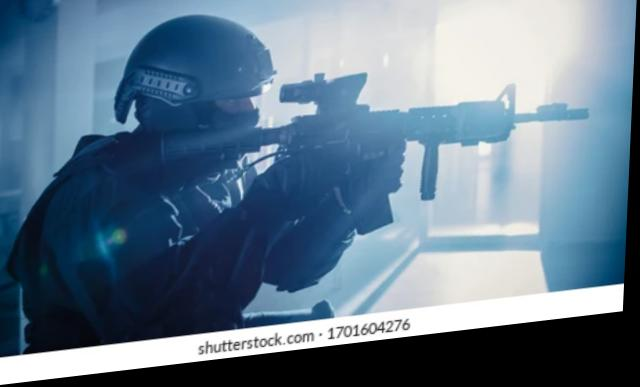other: (24, 20, 360, 352)
